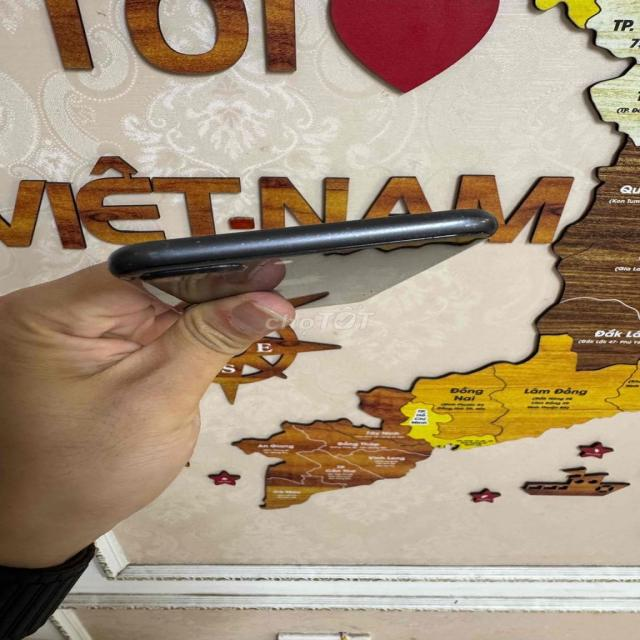gen_7_8: (92, 206, 501, 313)
